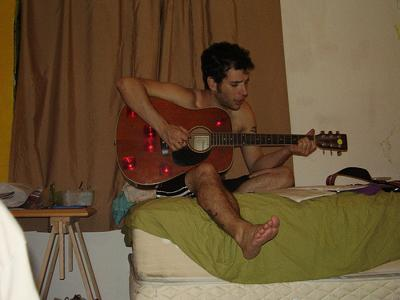person: (118, 42, 320, 261)
